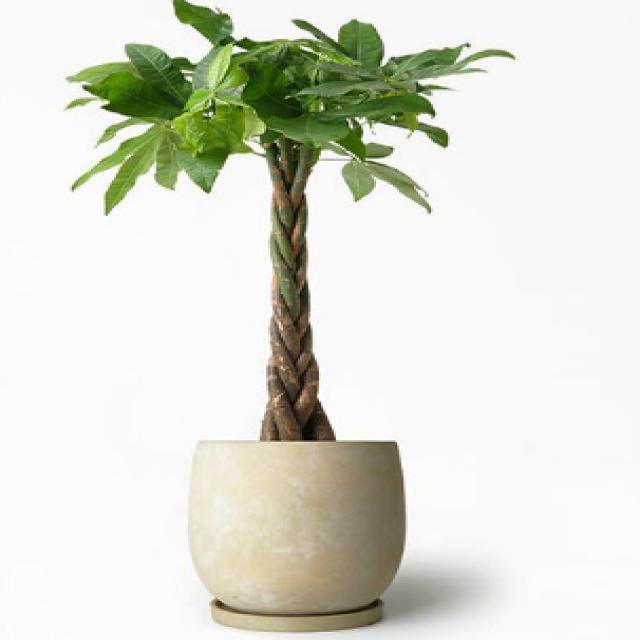Plant Pot: (167, 427, 451, 636)
